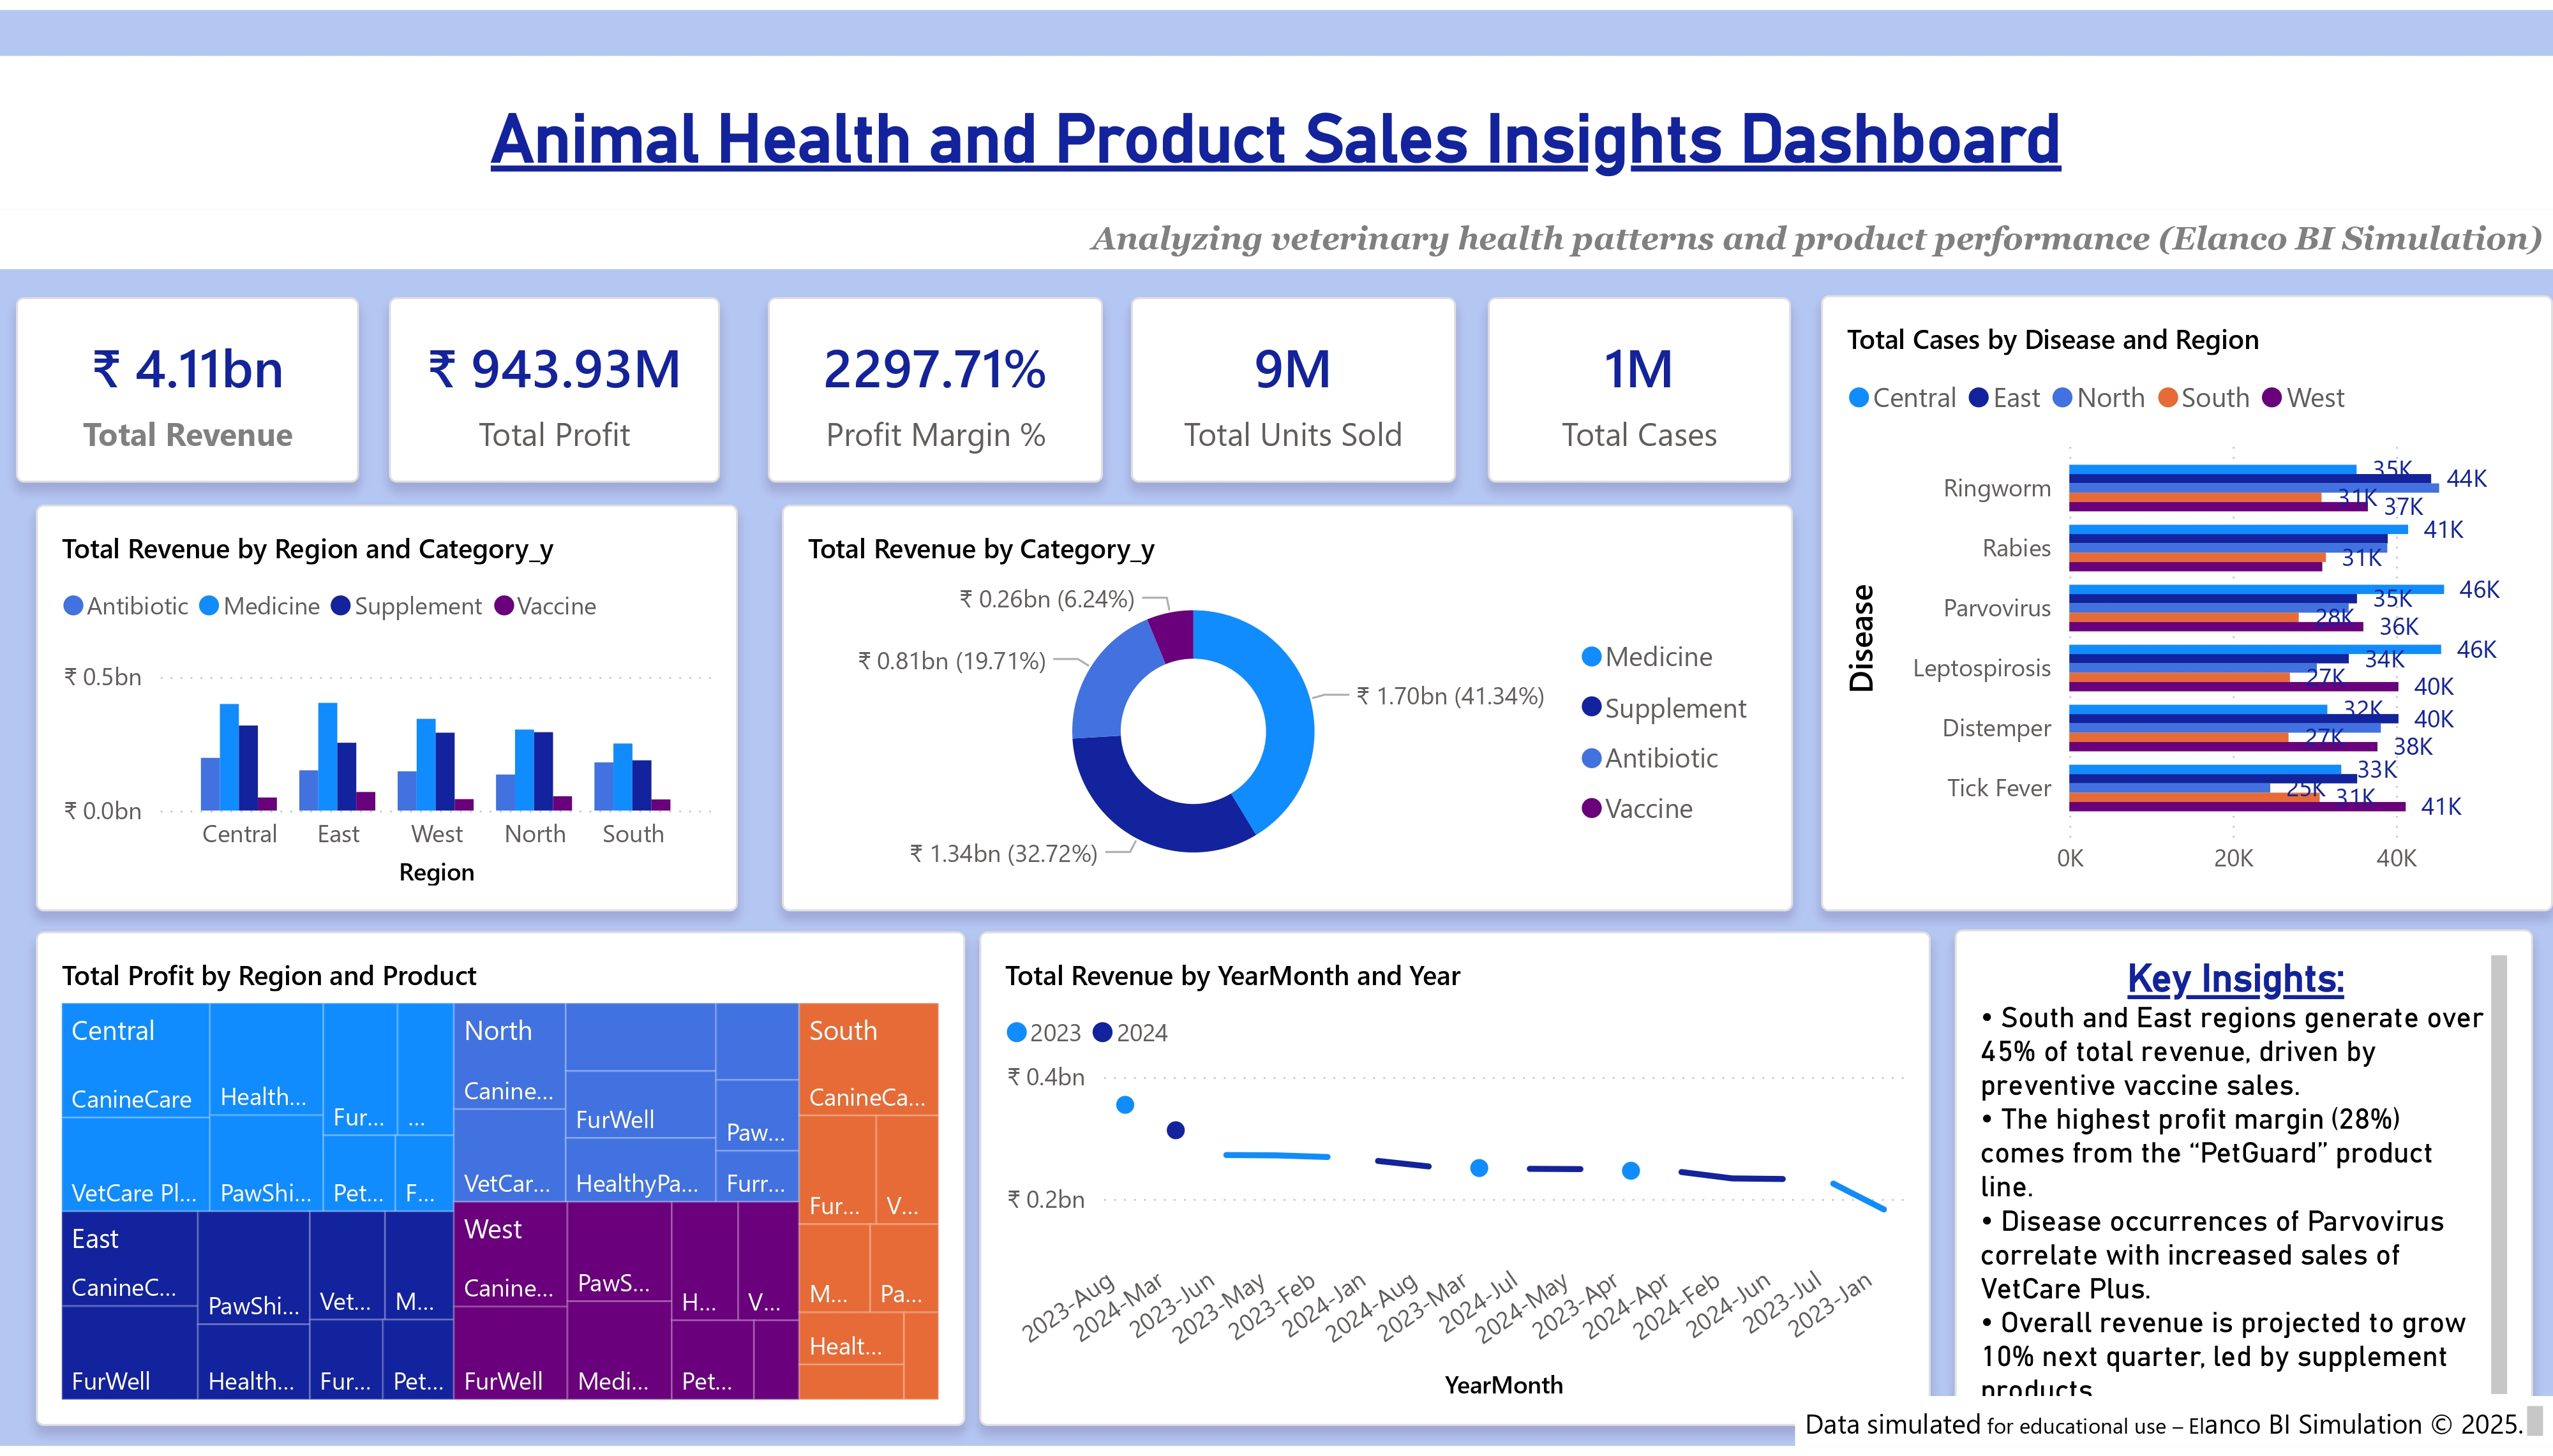

What the dashboard file says about the page in this screenshot:
{"tool":"powerbi","page":{"name":"Page 1","canvas":[1280,720],"ordinal":0},"visuals":[{"type":"textbox","box":[0,23.2,1279.7,76.8],"z":0},{"type":"textbox","box":[0,100,1279.7,30.4],"z":1000},{"type":"card","fields":{"Values":["merged_data.Total Revenue"]},"box":[7.7,143.8,172.3,93.1],"z":2000},{"type":"card","fields":{"Values":["merged_data.Total Cases"]},"box":[746.2,143.8,152.3,93.1],"z":3000},{"type":"card","fields":{"Values":["merged_data.Total Units Sold"]},"box":[566.9,143.8,163.1,93.1],"z":4000},{"type":"card","fields":{"Values":["merged_data.Profit Margin %"]},"box":[384.6,143.8,168.5,93.1],"z":5000},{"type":"card","fields":{"Values":["merged_data.Total Profit"]},"box":[194.6,143.8,166.2,93.1],"z":6000},{"type":"clusteredColumnChart","fields":{"Category":["merged_data.Region"],"Y":["merged_data.Total Revenue"],"Series":["merged_data.Category_y"]},"box":[17.8,247.8,352.2,204.4],"z":7000},{"type":"clusteredBarChart","fields":{"Y":["merged_data.Total Cases"],"Category":["merged_data.Disease"],"Series":["merged_data.Region"]},"box":[913.3,143.3,366.7,308.9],"z":8000},{"type":"treemap","fields":{"Values":["merged_data.Total Profit"],"Details":["merged_data.Product"],"Group":["merged_data.Region"]},"box":[17.8,462.2,465.6,247.8],"z":9000},{"type":"lineChart","fields":{"Category":["Calendar_Monthly.YearMonth"],"Y":["merged_data.Total Revenue"],"Series":["Calendar_Monthly.Year"]},"box":[491.1,462.2,476.7,247.8],"z":10000},{"type":"donutChart","fields":{"Y":["merged_data.Total Revenue"],"Category":["merged_data.Category_y"]},"box":[392.2,247.8,506.7,204.4],"z":11000},{"type":"textbox","box":[980,461.4,290,248.6],"z":12000},{"type":"textbox","box":[900,695,380,25],"z":13000}]}

Visuals, with their boxes in screenshot pixels (x1, y1, x2, y2), scaled from the page's 1280x720 canvas onto the 2553x1456 screenshot:
textbox: [left=0, top=47, right=2552, bottom=202]
textbox: [left=0, top=202, right=2552, bottom=264]
card - merged_data.Total Revenue: [left=15, top=291, right=359, bottom=479]
card - merged_data.Total Cases: [left=1488, top=291, right=1792, bottom=479]
card - merged_data.Total Units Sold: [left=1131, top=291, right=1456, bottom=479]
card - merged_data.Profit Margin %: [left=767, top=291, right=1103, bottom=479]
card - merged_data.Total Profit: [left=388, top=291, right=719, bottom=479]
clusteredColumnChart - merged_data.Region x merged_data.Total Revenue: [left=36, top=501, right=738, bottom=914]
clusteredBarChart - merged_data.Total Cases x merged_data.Disease: [left=1822, top=290, right=2552, bottom=914]
treemap - merged_data.Total Profit x merged_data.Product: [left=36, top=935, right=964, bottom=1436]
lineChart - Calendar_Monthly.YearMonth x merged_data.Total Revenue: [left=980, top=935, right=1930, bottom=1436]
donutChart - merged_data.Total Revenue x merged_data.Category_y: [left=782, top=501, right=1793, bottom=914]
textbox: [left=1954, top=933, right=2533, bottom=1436]
textbox: [left=1795, top=1406, right=2552, bottom=1455]
